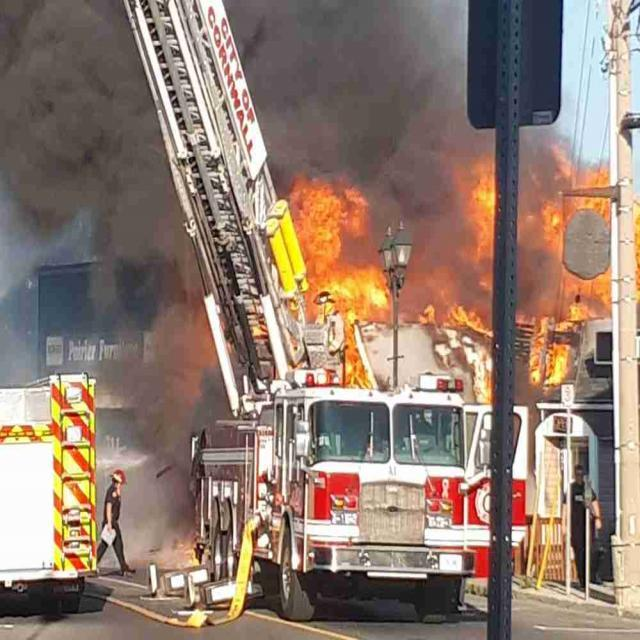Fire: (272, 172, 640, 418)
